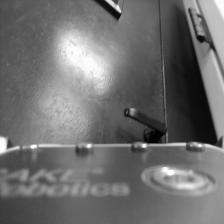Door Handle: (123, 106, 168, 142)
